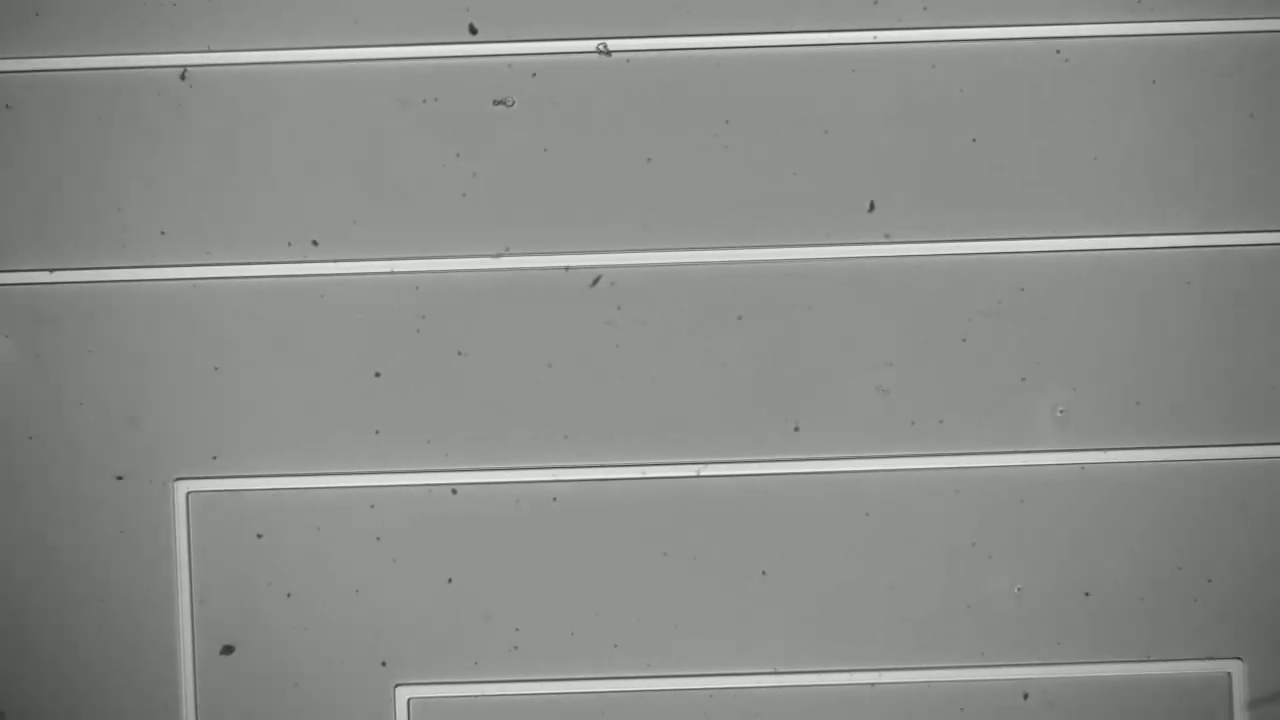stains_enbedded: (588, 31, 619, 65)
